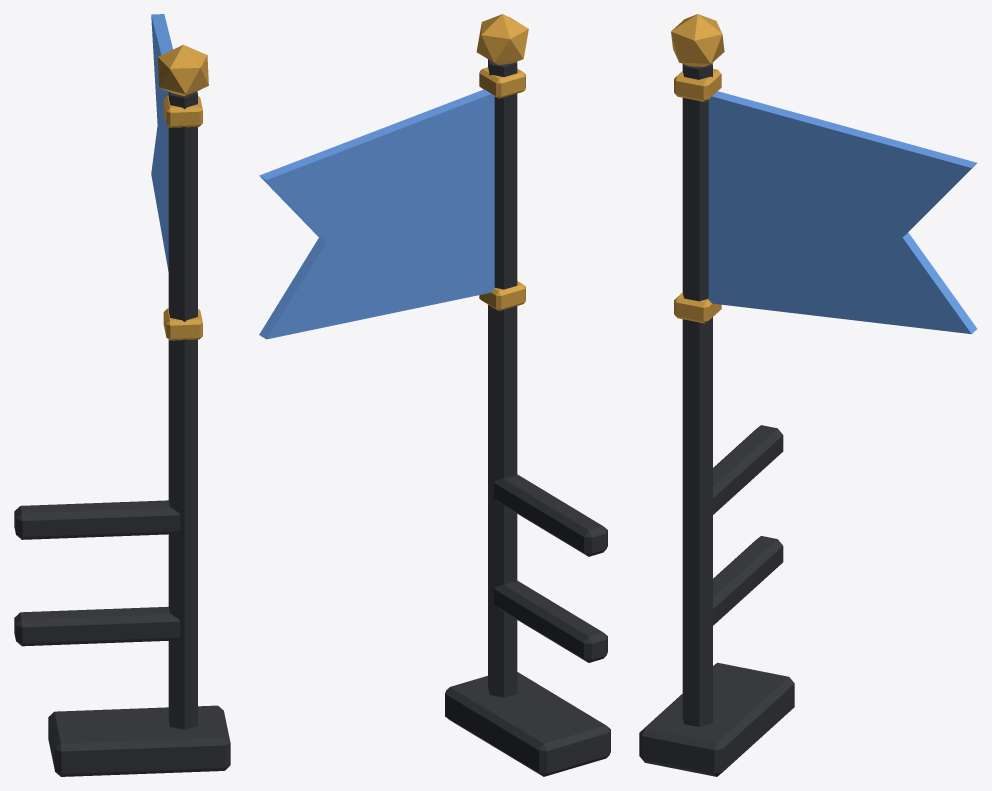
Rendered from BubbleKit7.obj.
3 views of the same model, side by side, from view 1: azimuth 30°, elevation 25°; view 2: azimuth 150°, elevation 25°; view 3: azimuth 270°, elevation 25° (orthographic). The views are drawn at different scales.
Visible parts, largest first — view 1: BubbleKit7; view 2: BubbleKit7; view 3: BubbleKit7.
Part boxes in pixels (box(x1,y1,x2,y2)): BubbleKit7: box(14, 14, 230, 776); BubbleKit7: box(259, 14, 610, 776); BubbleKit7: box(639, 14, 977, 776).
Bounding box in the file's own units: 0.3907 × 1.07 × 0.4427.
